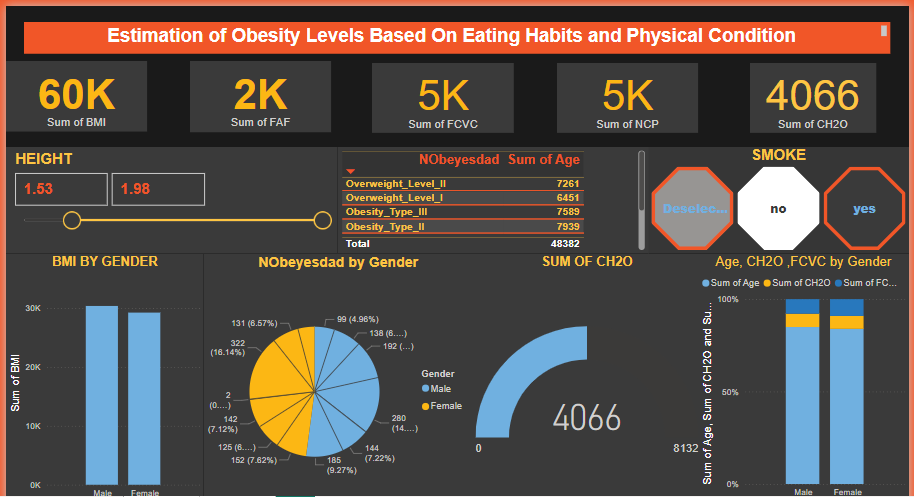

What the dashboard file says about the page in this screenshot:
{"tool":"powerbi","page":{"name":"Page 1","canvas":[1280,720],"ordinal":0},"visuals":[{"type":"columnChart","title":" BMI BY  GENDER","fields":{"Y":["Sum(ObesityDataSet_raw_and_data_sinthetic.BMI)"],"Category":["ObesityDataSet_raw_and_data_sinthetic.Gender"]},"box":[0,351.3,280.4,369.1],"z":0},{"type":"card","fields":{"Values":["Sum(ObesityDataSet_raw_and_data_sinthetic.BMI)"]},"box":[0,77.6,200,100],"z":1000},{"type":"card","fields":{"Values":["Sum(ObesityDataSet_raw_and_data_sinthetic.FAF)"]},"box":[260.8,78,199.9,100.6],"z":2000},{"type":"card","fields":{"Values":["Sum(ObesityDataSet_raw_and_data_sinthetic.FCVC)"]},"box":[518.8,80.8,201.3,99.2],"z":3000},{"type":"pieChart","title":" NObeyesdad by Gender ","fields":{"Category":["ObesityDataSet_raw_and_data_sinthetic.Gender"],"Y":["CountNonNull(ObesityDataSet_raw_and_data_sinthetic.Gender)"],"Series":["ObesityDataSet_raw_and_data_sinthetic.NObeyesdad"]},"box":[280.1,351.4,380.3,368.4],"z":4000},{"type":"hundredPercentStackedColumnChart","title":"Age, CH2O ,FCVC by Gender","fields":{"Category":["ObesityDataSet_raw_and_data_sinthetic.Gender"],"Y":["Sum(ObesityDataSet_raw_and_data_sinthetic.Age)","Sum(ObesityDataSet_raw_and_data_sinthetic.CH2O)","Sum(ObesityDataSet_raw_and_data_sinthetic.FCVC)"]},"box":[981.2,351.4,298.8,368.4],"z":5000},{"type":"gauge","title":"SUM OF CH2O","fields":{"Y":["Sum(ObesityDataSet_raw_and_data_sinthetic.CH2O)"]},"box":[660.6,351.5,326,368.5],"z":6000},{"type":"advancedSlicerVisual","fields":{"Values":["ObesityDataSet_raw_and_data_sinthetic.SMOKE"]},"box":[909.9,200.3,370.1,151.1],"z":7000},{"type":"tableEx","fields":{"Values":["ObesityDataSet_raw_and_data_sinthetic.NObeyesdad","Sum(ObesityDataSet_raw_and_data_sinthetic.Age)"]},"box":[470.2,200.3,439.7,151.1],"z":8000},{"type":"card","fields":{"Values":["Sum(ObesityDataSet_raw_and_data_sinthetic.NCP)"]},"box":[781,80.8,199.9,99.2],"z":9000},{"type":"slicer","fields":{"Values":["ObesityDataSet_raw_and_data_sinthetic.Height"]},"box":[0,200.3,470.2,151.1],"z":10000},{"type":"textbox","box":[25.5,22.7,1227.6,45.4],"z":10001},{"type":"card","fields":{"Values":["Sum(ObesityDataSet_raw_and_data_sinthetic.CH2O)"]},"box":[1054.6,80.8,178.6,99.2],"z":10002}]}

Visuals, with their boxes on the page's 1280x720 design canvas (x1, y1, x2, y2). These are canvas units, not pixel positions in the 914x497 screenshot, which may show the page scaled, cropped or inside an application window:
" BMI BY  GENDER" columnChart: box=[0, 351, 280, 720]
card - Sum(ObesityDataSet_raw_and_data_sinthetic.BMI): box=[0, 78, 200, 178]
card - Sum(ObesityDataSet_raw_and_data_sinthetic.FAF): box=[261, 78, 461, 179]
card - Sum(ObesityDataSet_raw_and_data_sinthetic.FCVC): box=[519, 81, 720, 180]
" NObeyesdad by Gender " pieChart: box=[280, 351, 660, 720]
"Age, CH2O ,FCVC by Gender" hundredPercentStackedColumnChart: box=[981, 351, 1280, 720]
"SUM OF CH2O" gauge: box=[661, 352, 987, 720]
advancedSlicerVisual - ObesityDataSet_raw_and_data_sinthetic.SMOKE: box=[910, 200, 1280, 351]
tableEx - ObesityDataSet_raw_and_data_sinthetic.NObeyesdad x Sum(ObesityDataSet_raw_and_data_sinthetic.Age): box=[470, 200, 910, 351]
card - Sum(ObesityDataSet_raw_and_data_sinthetic.NCP): box=[781, 81, 981, 180]
slicer - ObesityDataSet_raw_and_data_sinthetic.Height: box=[0, 200, 470, 351]
textbox: box=[26, 23, 1253, 68]
card - Sum(ObesityDataSet_raw_and_data_sinthetic.CH2O): box=[1055, 81, 1233, 180]
